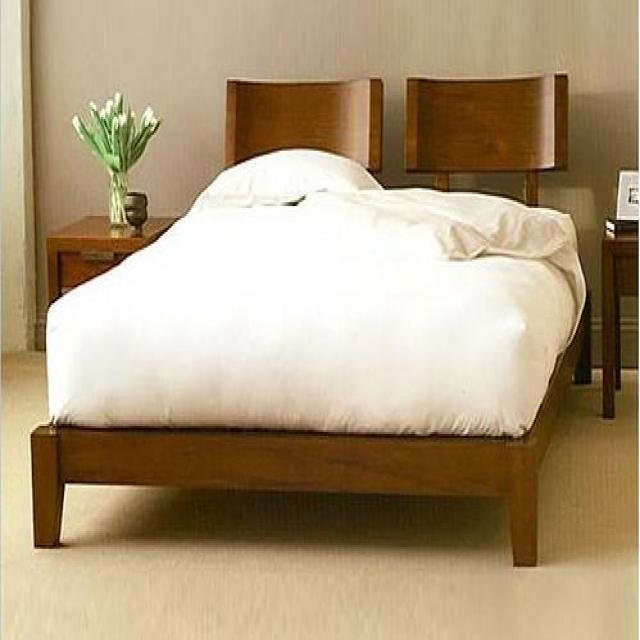bed: (29, 71, 588, 567)
